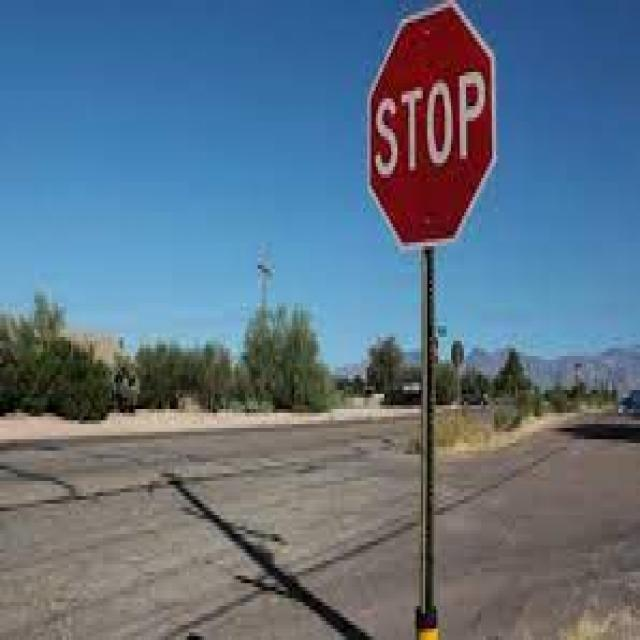Stop-Sign: (378, 5, 498, 246)
